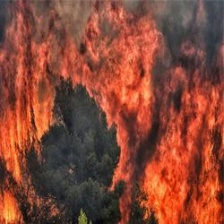fire: (3, 23, 224, 221)
